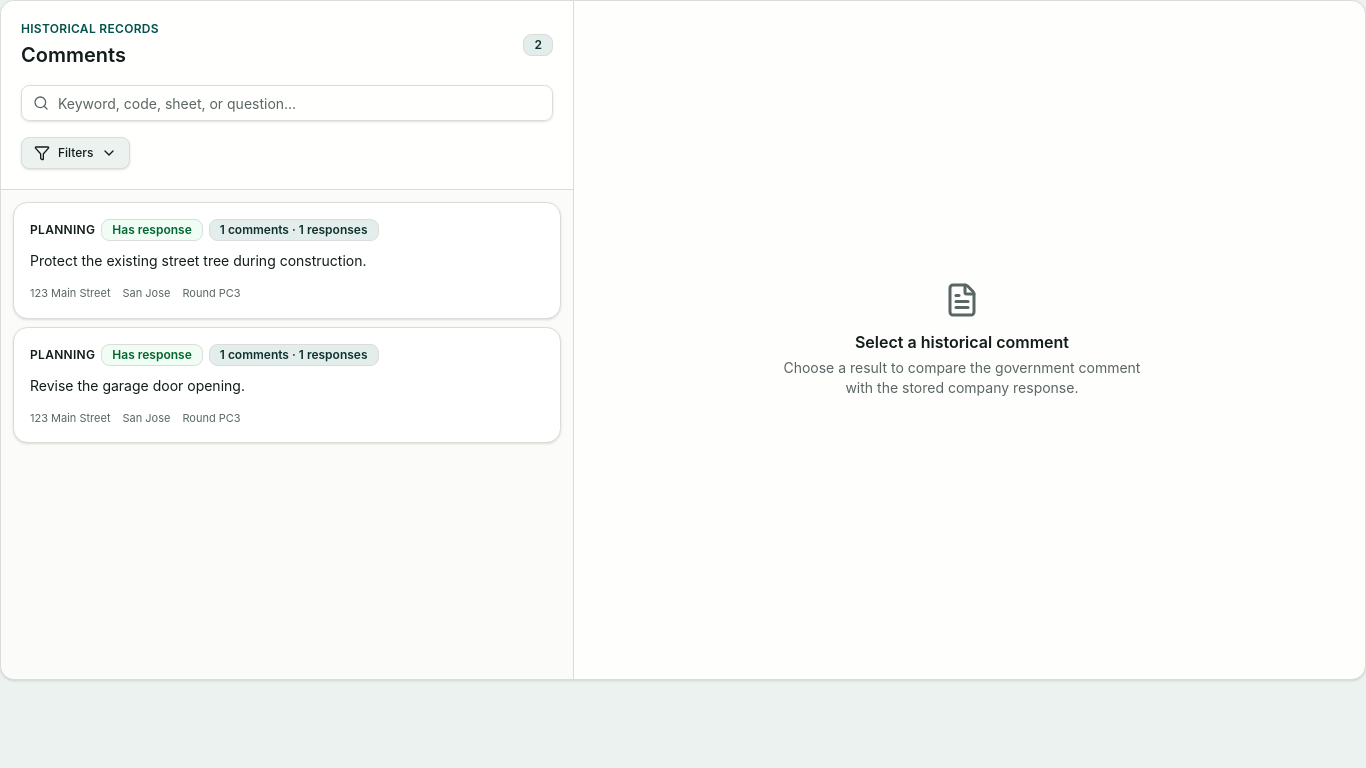
Test case: HistoricalResults › matches meaningful terms in a natural-language keyword query
Type "tree related" into the field named "Search historical comments" at (287, 103), box [21,85,553,121]
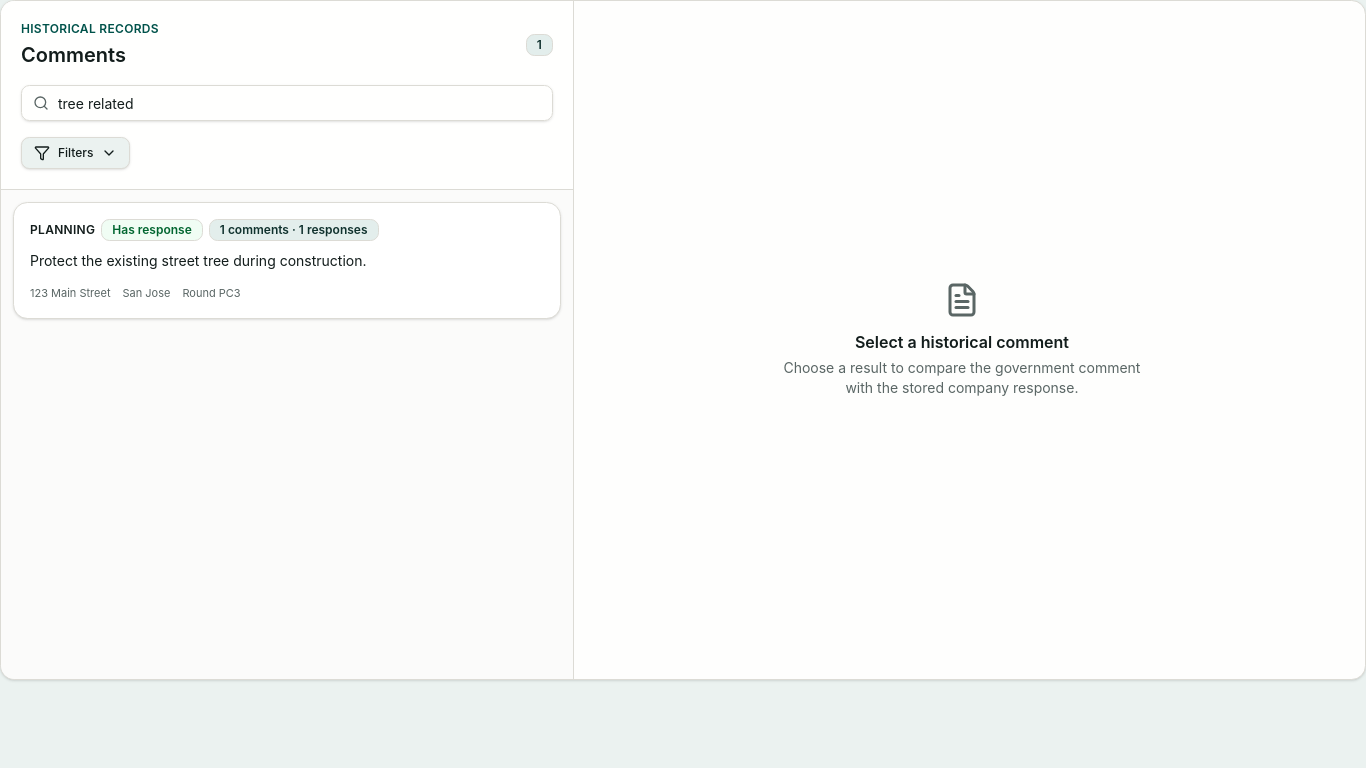
Expected: the text "Protect the existing street tree during construction." is shown, [30,252,366,269]
Expected: the button "Revise the garage door opening." is gone
